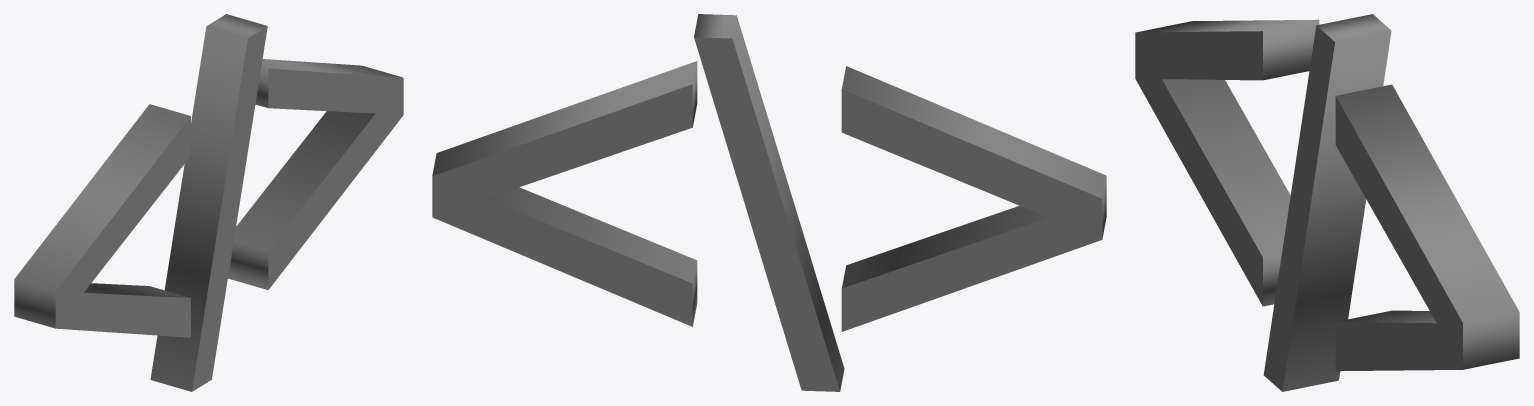
Rendered from build.glb.
3 views of the same model, side by side, from view 1: azimuth 30°, elevation 25°; view 2: azimuth 150°, elevation 25°; view 3: azimuth 270°, elevation 25° (orthographic). The views are drawn at different scales.
Parts seen in each view (by area): view 1: Text.003; view 2: Text.003; view 3: Text.003.
Boxes of the visible parts, x1,y1,x2,y2 form: Text.003: [14, 14, 403, 391]; Text.003: [432, 14, 1106, 391]; Text.003: [1135, 14, 1519, 391].
Bounding box in the file's own units: 0.7759 × 0.4749 × 0.4168.
Materials: 1 (1 with a texture image).
